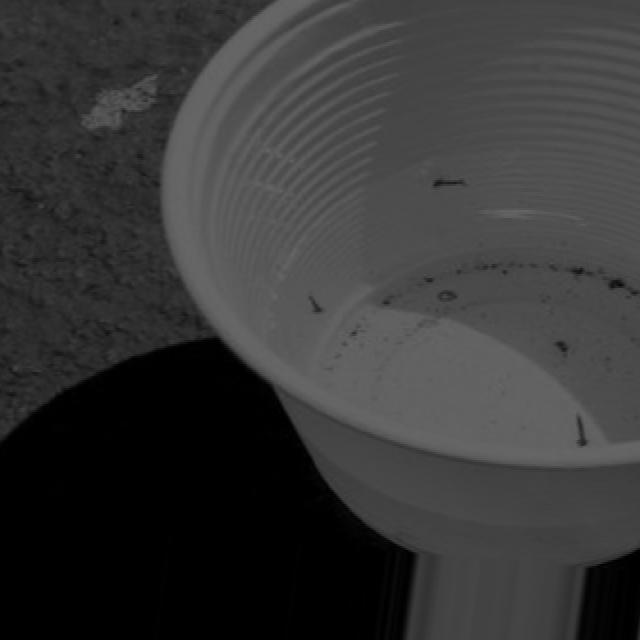larvas: (433, 177, 467, 190), (575, 412, 587, 446), (438, 288, 457, 304), (308, 294, 320, 312)
